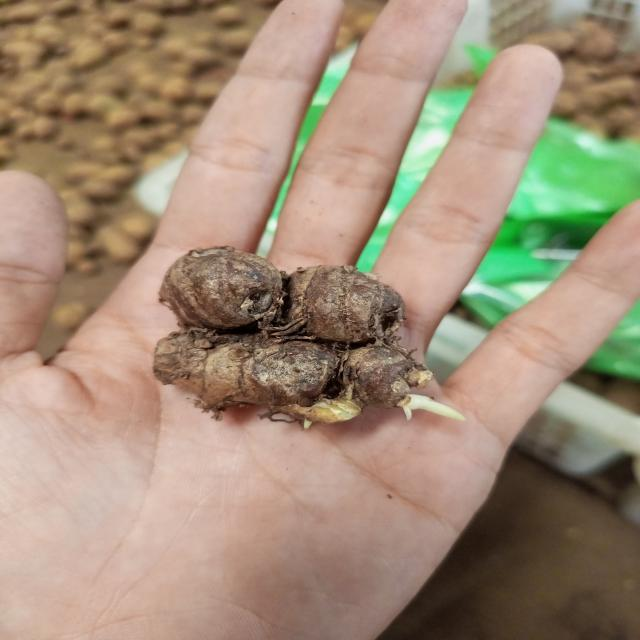ginger: (171, 250, 422, 423)
